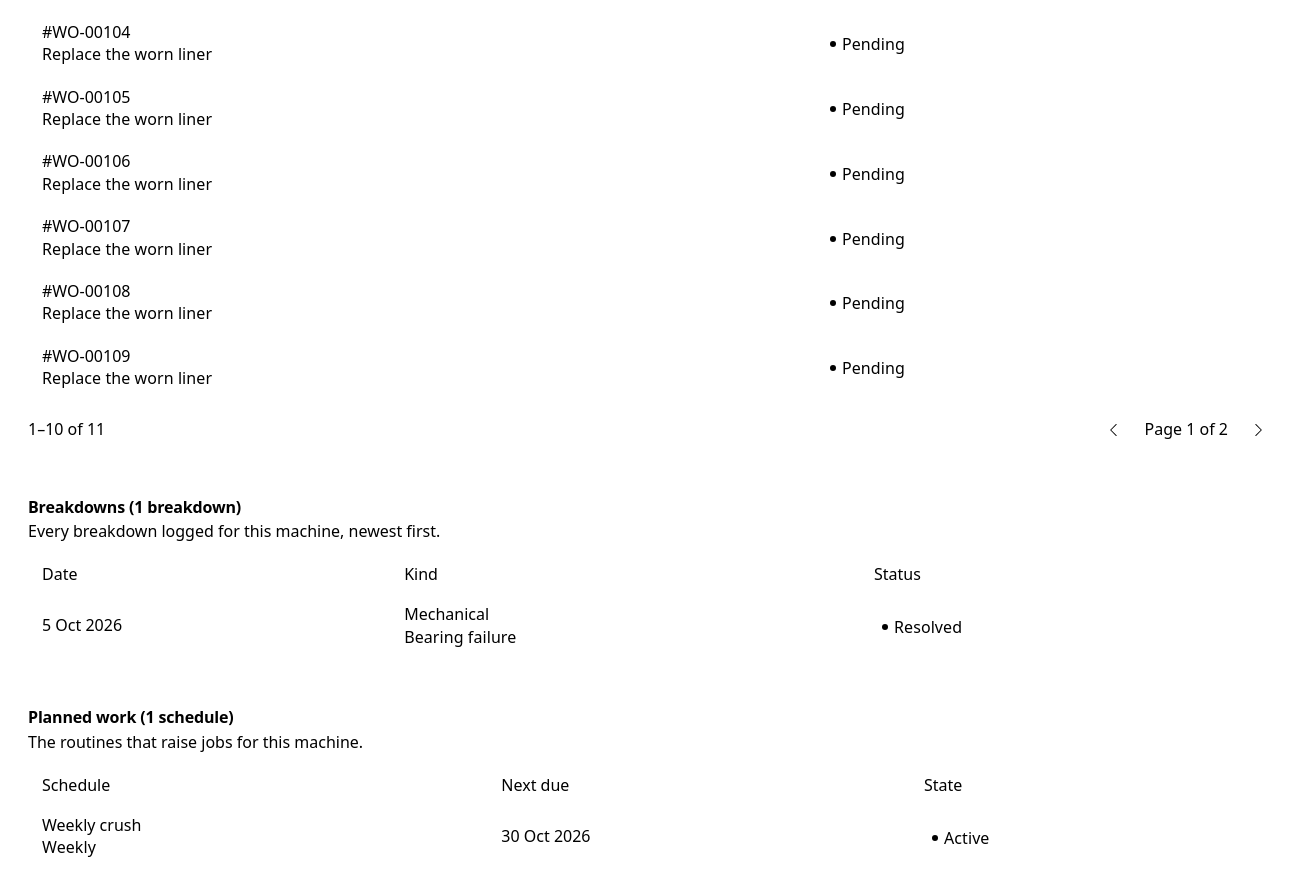
MachineHistoryView › long job lists paginate
This screenshot has width=1292, height=879.
(page scrolled)
Check: the text "#WO-00110" is not shown
Click the button named "Next page" at coordinates (1258, 430), box [1240,412,1276,448]
(page scrolled)
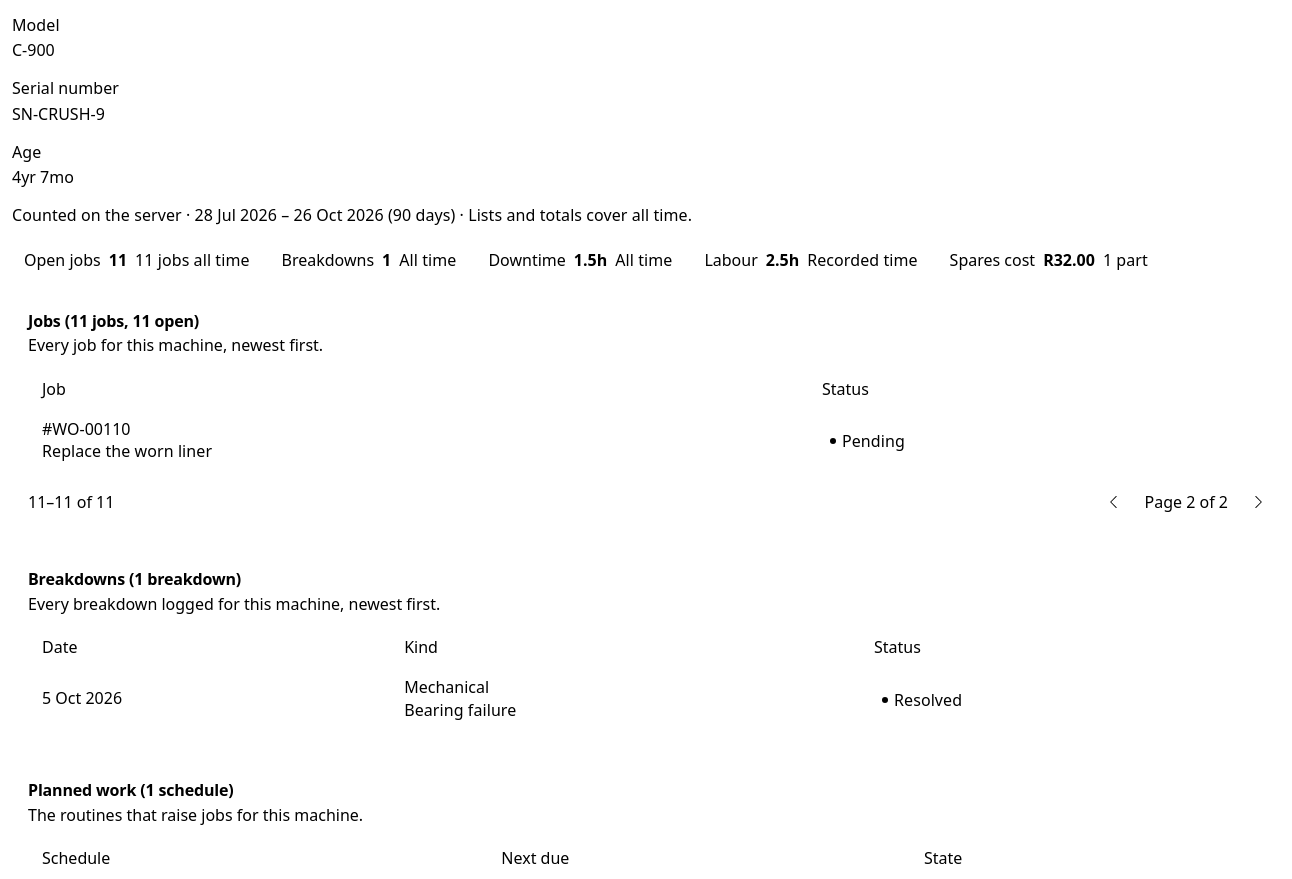
Check: the text "#WO-00110" is shown, box [42,418,130,440]
